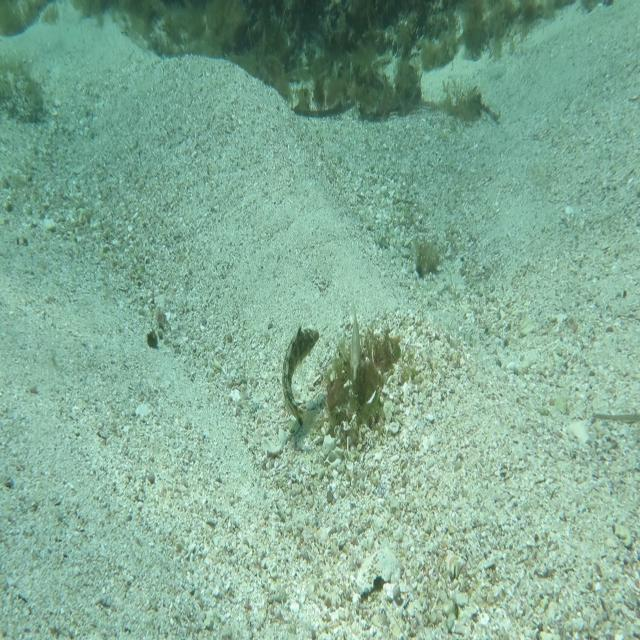BEND: (277, 313, 325, 443)
female: (341, 295, 367, 382)
nest: (314, 330, 408, 446)
vegetation: (114, 0, 542, 57), (245, 62, 446, 125), (412, 242, 446, 287)
